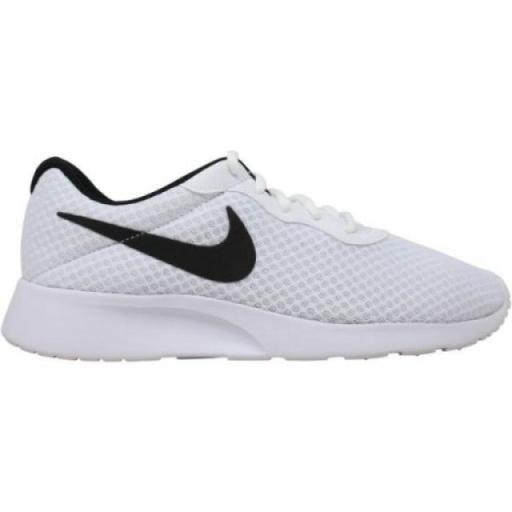Nike: (46, 205, 266, 291)
